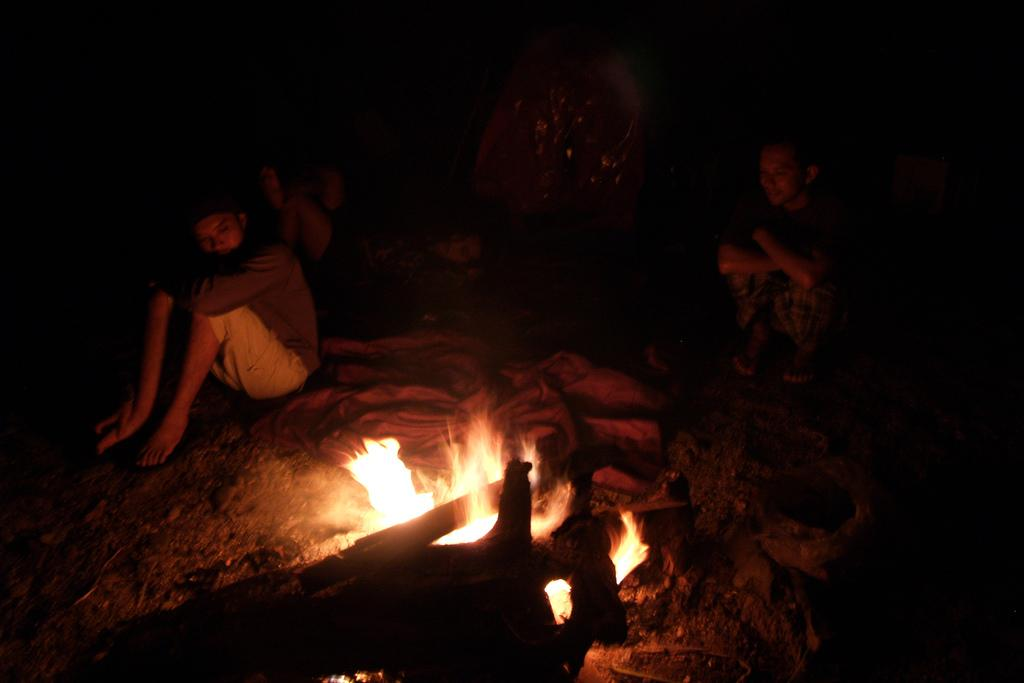fire: (347, 438, 423, 515), (450, 428, 492, 487), (613, 532, 640, 588), (447, 517, 485, 547), (552, 578, 570, 622)
